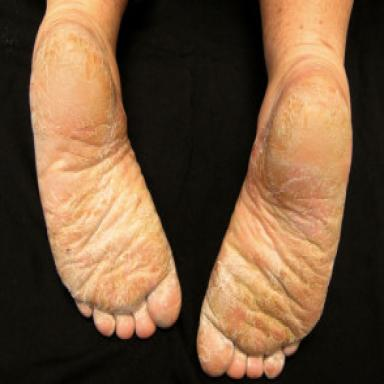eczema: (197, 76, 351, 377), (30, 27, 173, 314)
